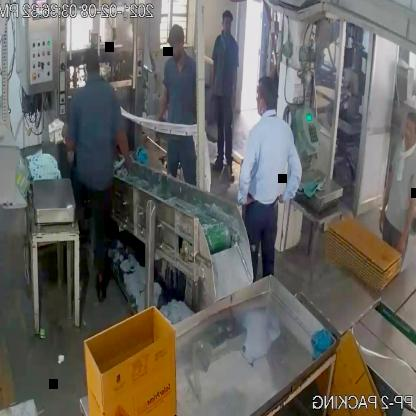no_glove: (368, 159, 398, 239), (115, 119, 144, 179), (234, 138, 257, 213), (277, 151, 305, 211), (396, 178, 416, 259), (150, 79, 168, 128), (228, 63, 239, 112)
